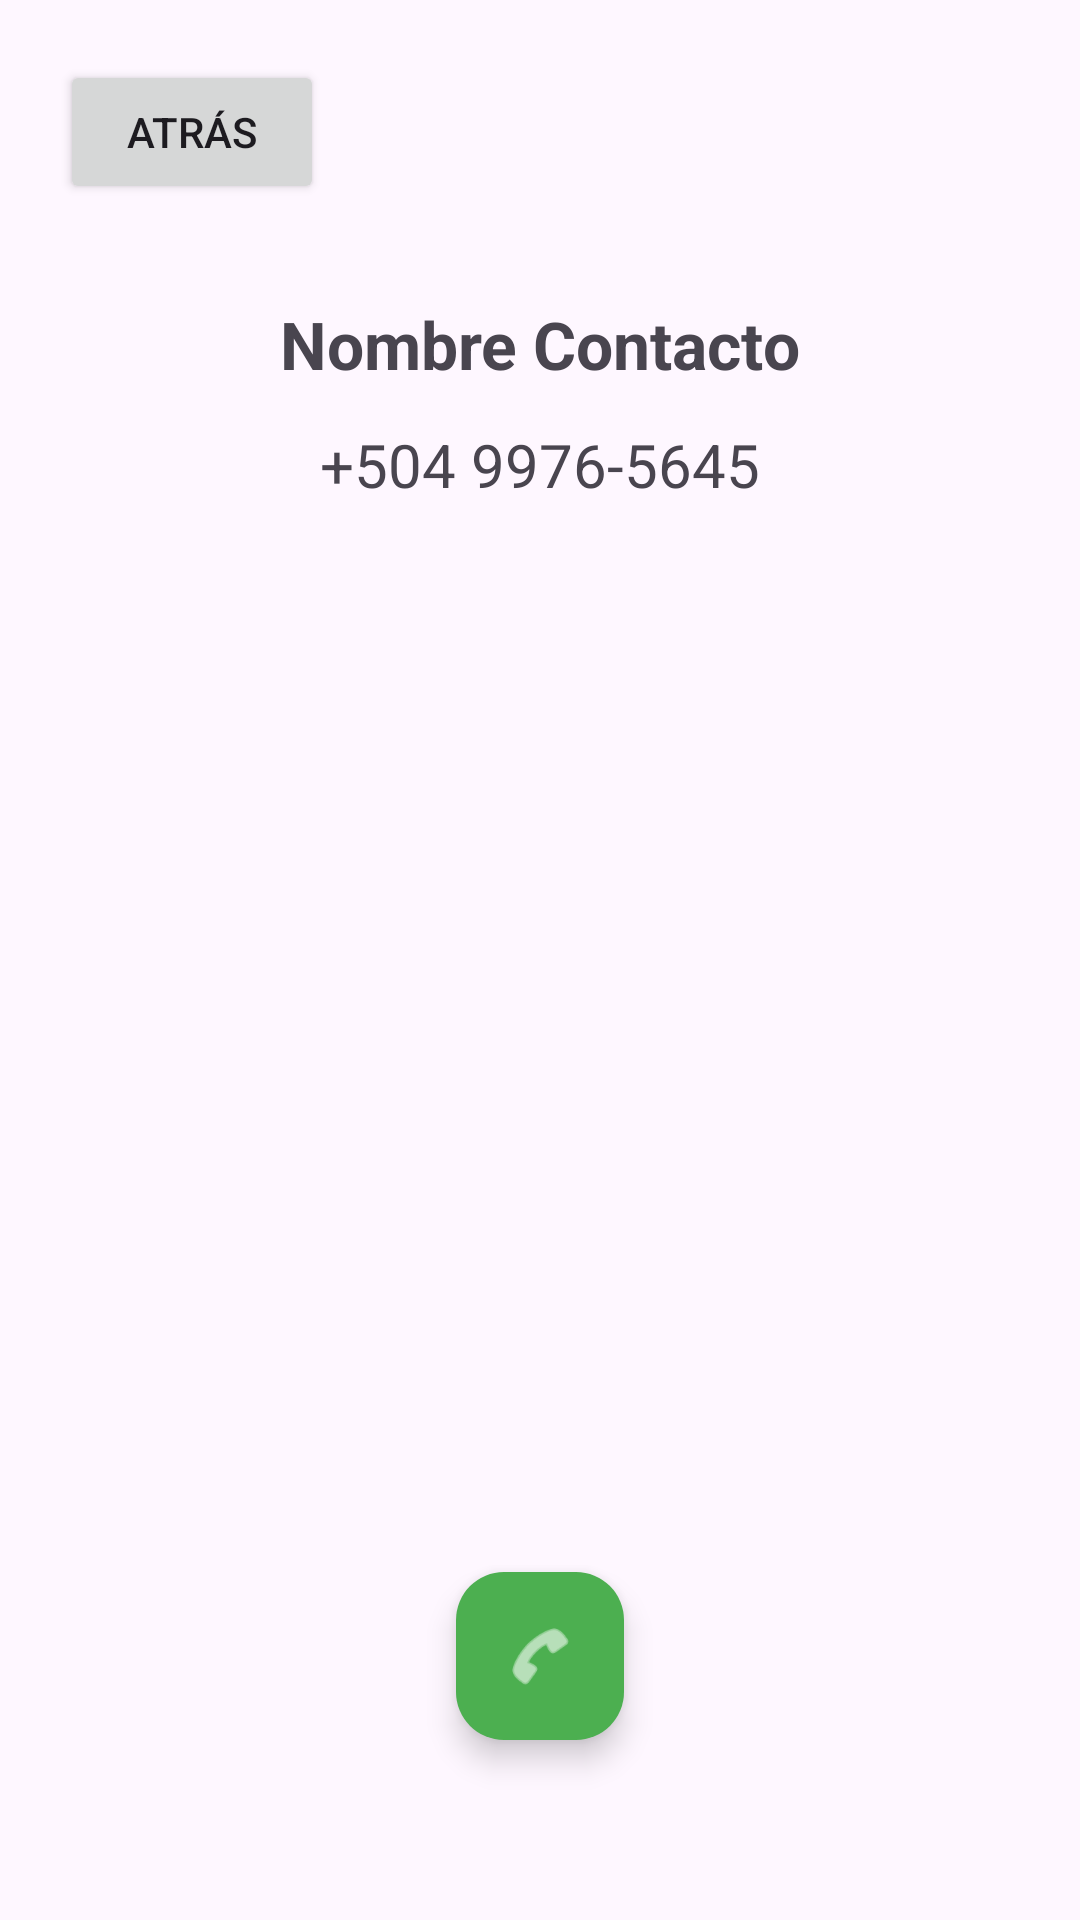

Named icons in this screenshot (1080 x 1920) and their centers, [x,y]:
Llamar: [540,1656]
